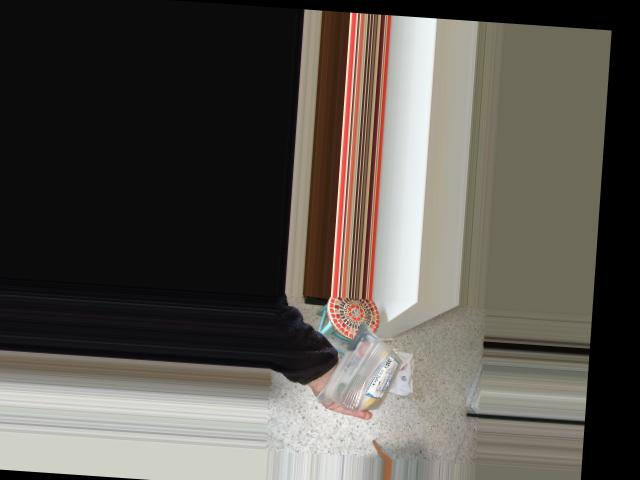cheese: (330, 351, 424, 397)
